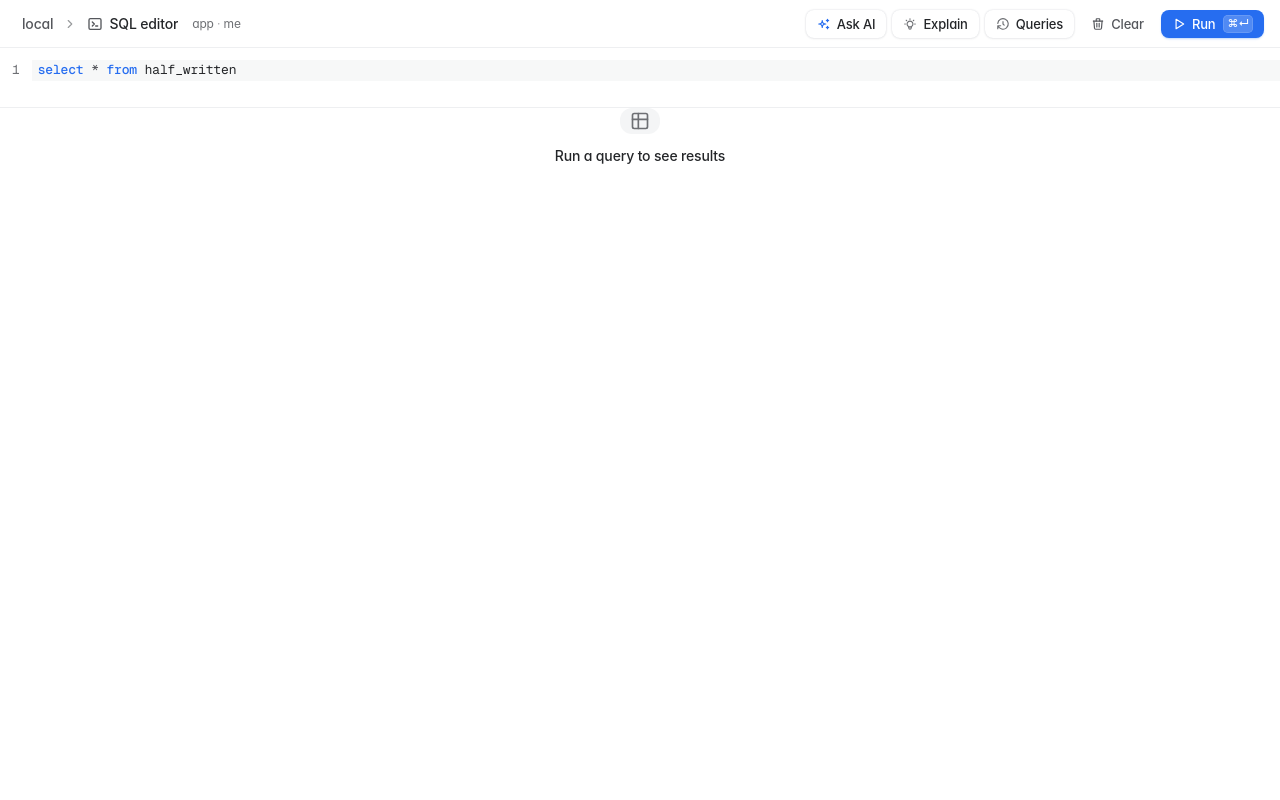
Test case: generated SQL over an unsaved draft › offers a way back - the draft is persisted, and history only holds runs
Expected: the element with test id "sql-editor" is shown, [0,48,1279,107]
Click the button "Ask AI".
click(846, 24)  # box [806,10,886,38]
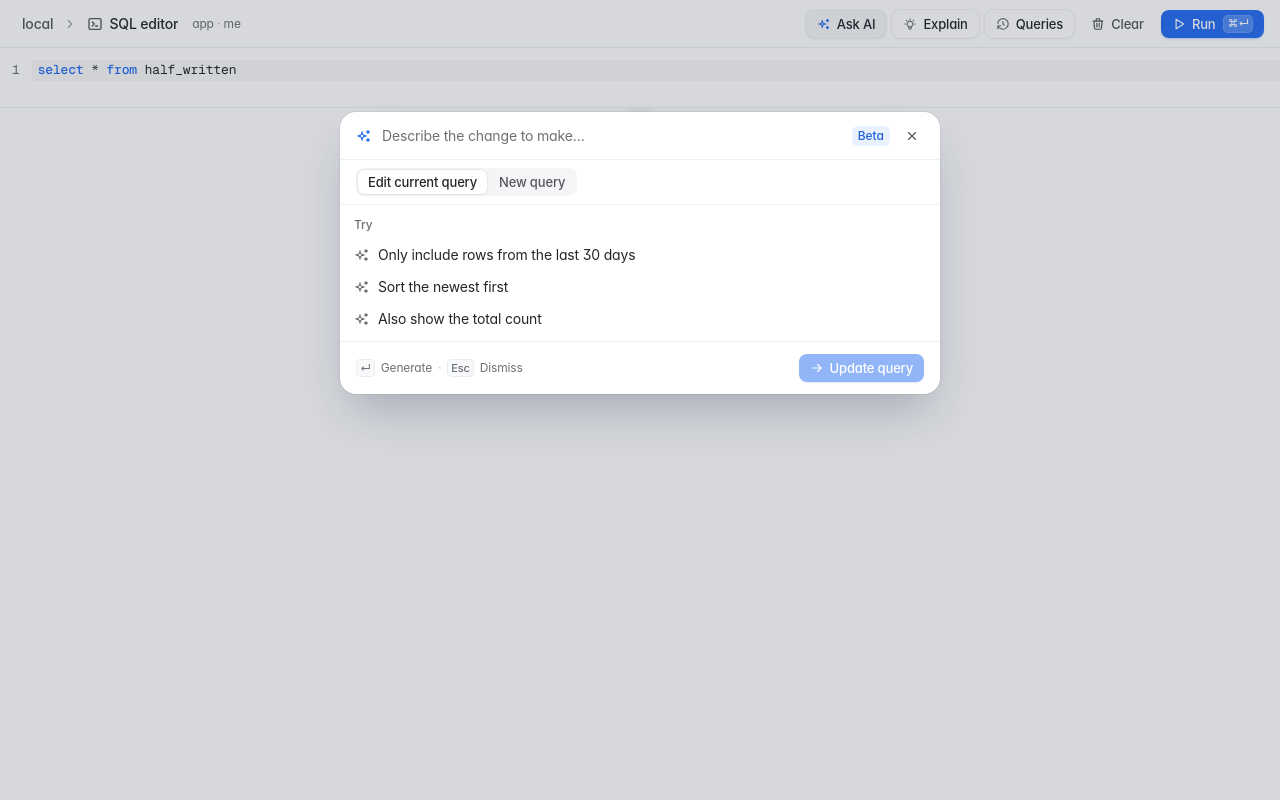
Type "all users" into the field with placeholder "Describe the change to make…".
click(612, 136); type("all users")  # box [382,126,842,146]
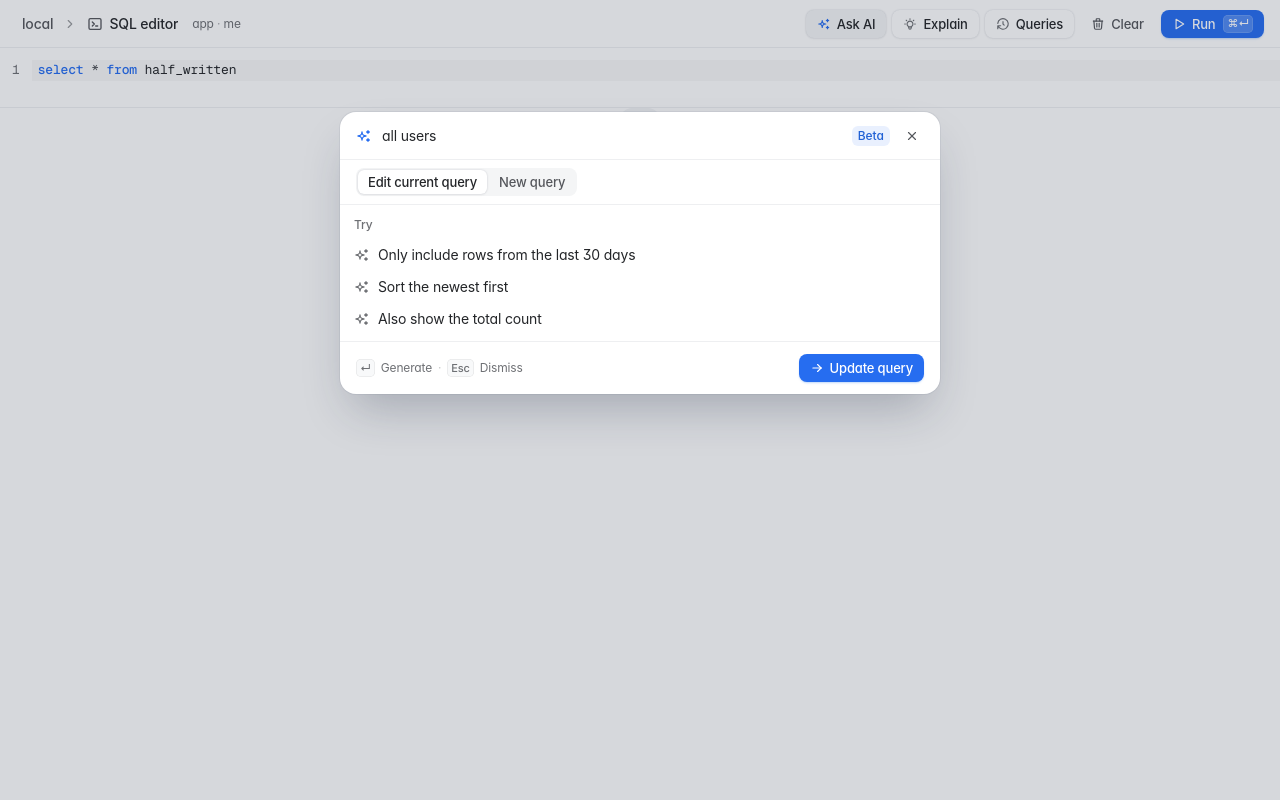
Press Enter in the field with placeholder "Describe the change to make…", box [382,126,842,146]
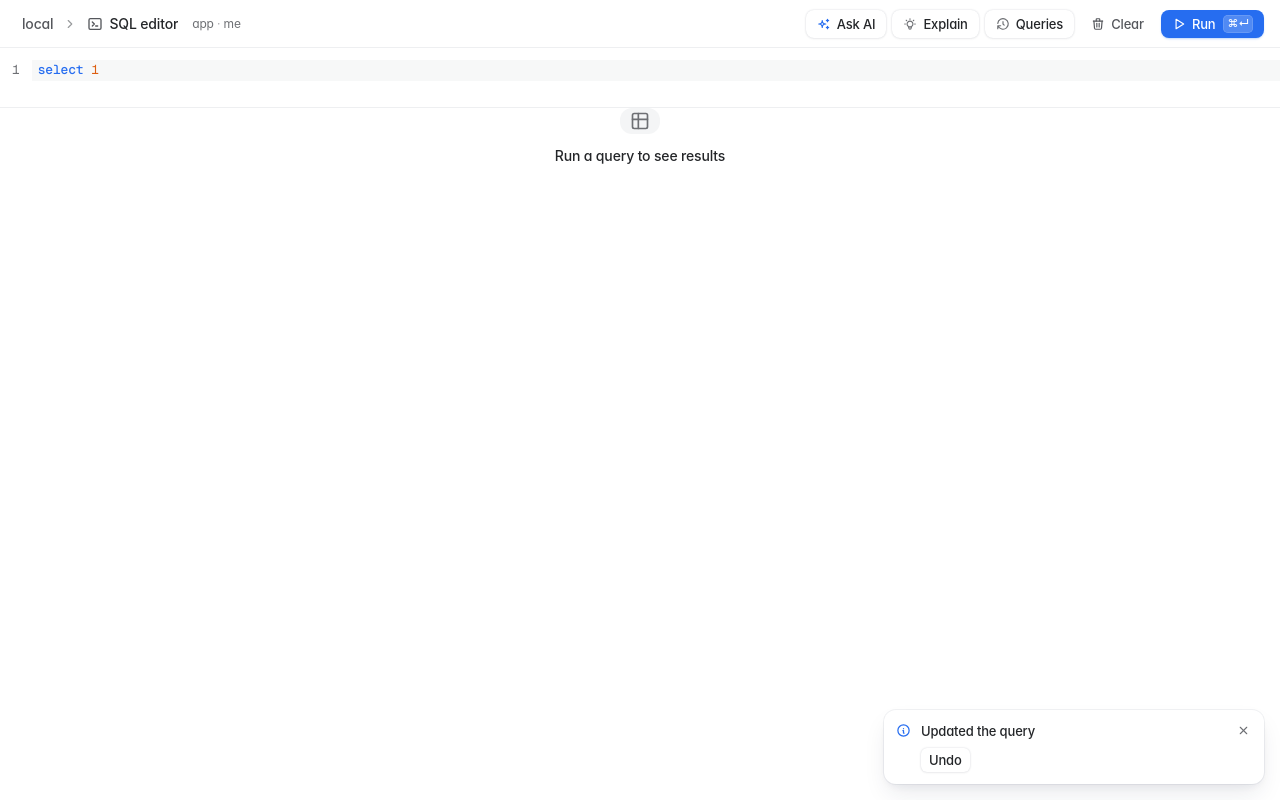
Expected: the text box labelled "select 1" is shown, [32,60,1279,81]
Click the button "Undo".
click(945, 760)  # box [921,748,970,772]
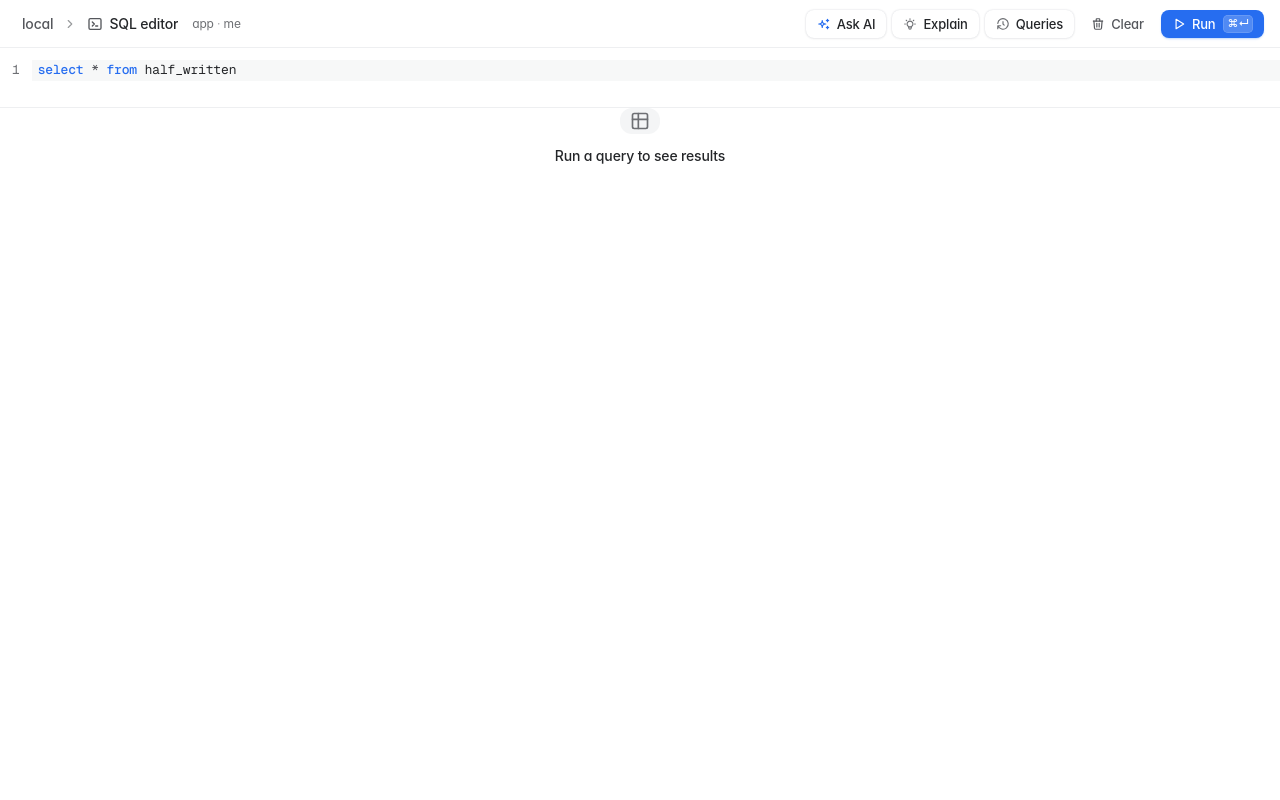
Expected: the text box labelled "select * from half_written" is shown, [32,60,1279,81]
